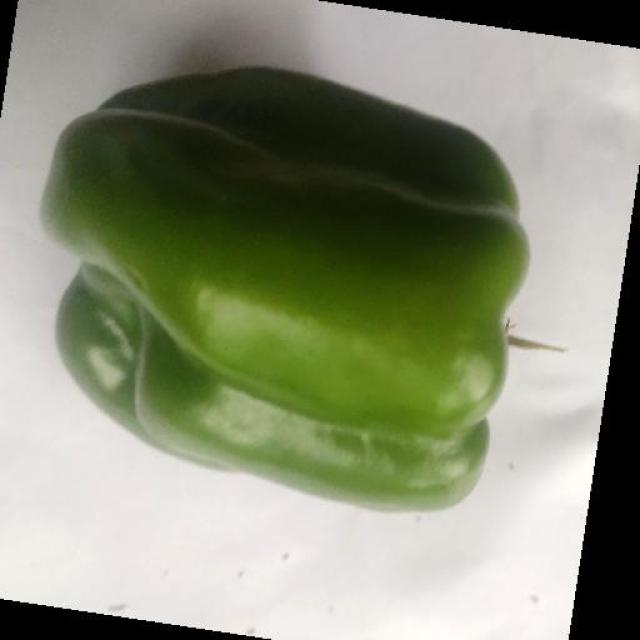Stale_Capsicum: (104, 39, 528, 294)
